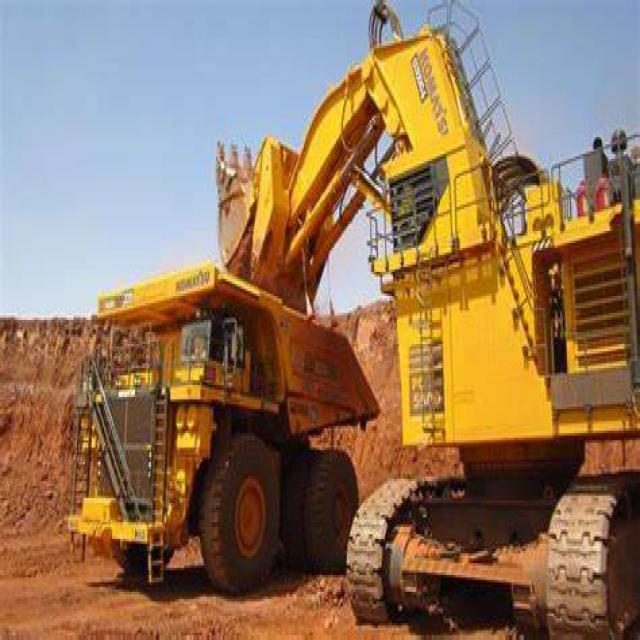dump_truck: (61, 252, 378, 608)
